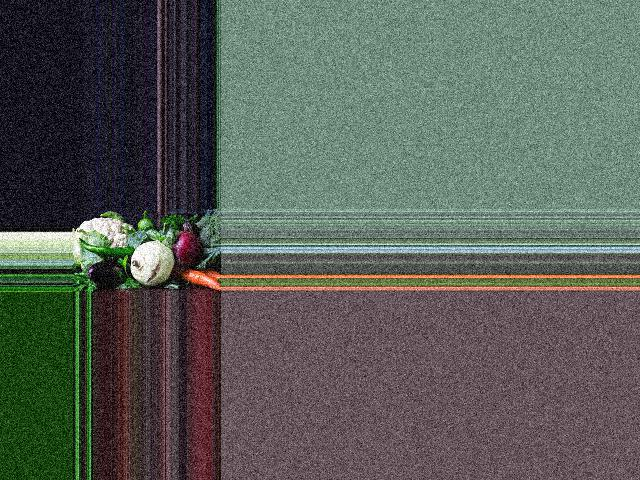carrot: (181, 263, 222, 292)
